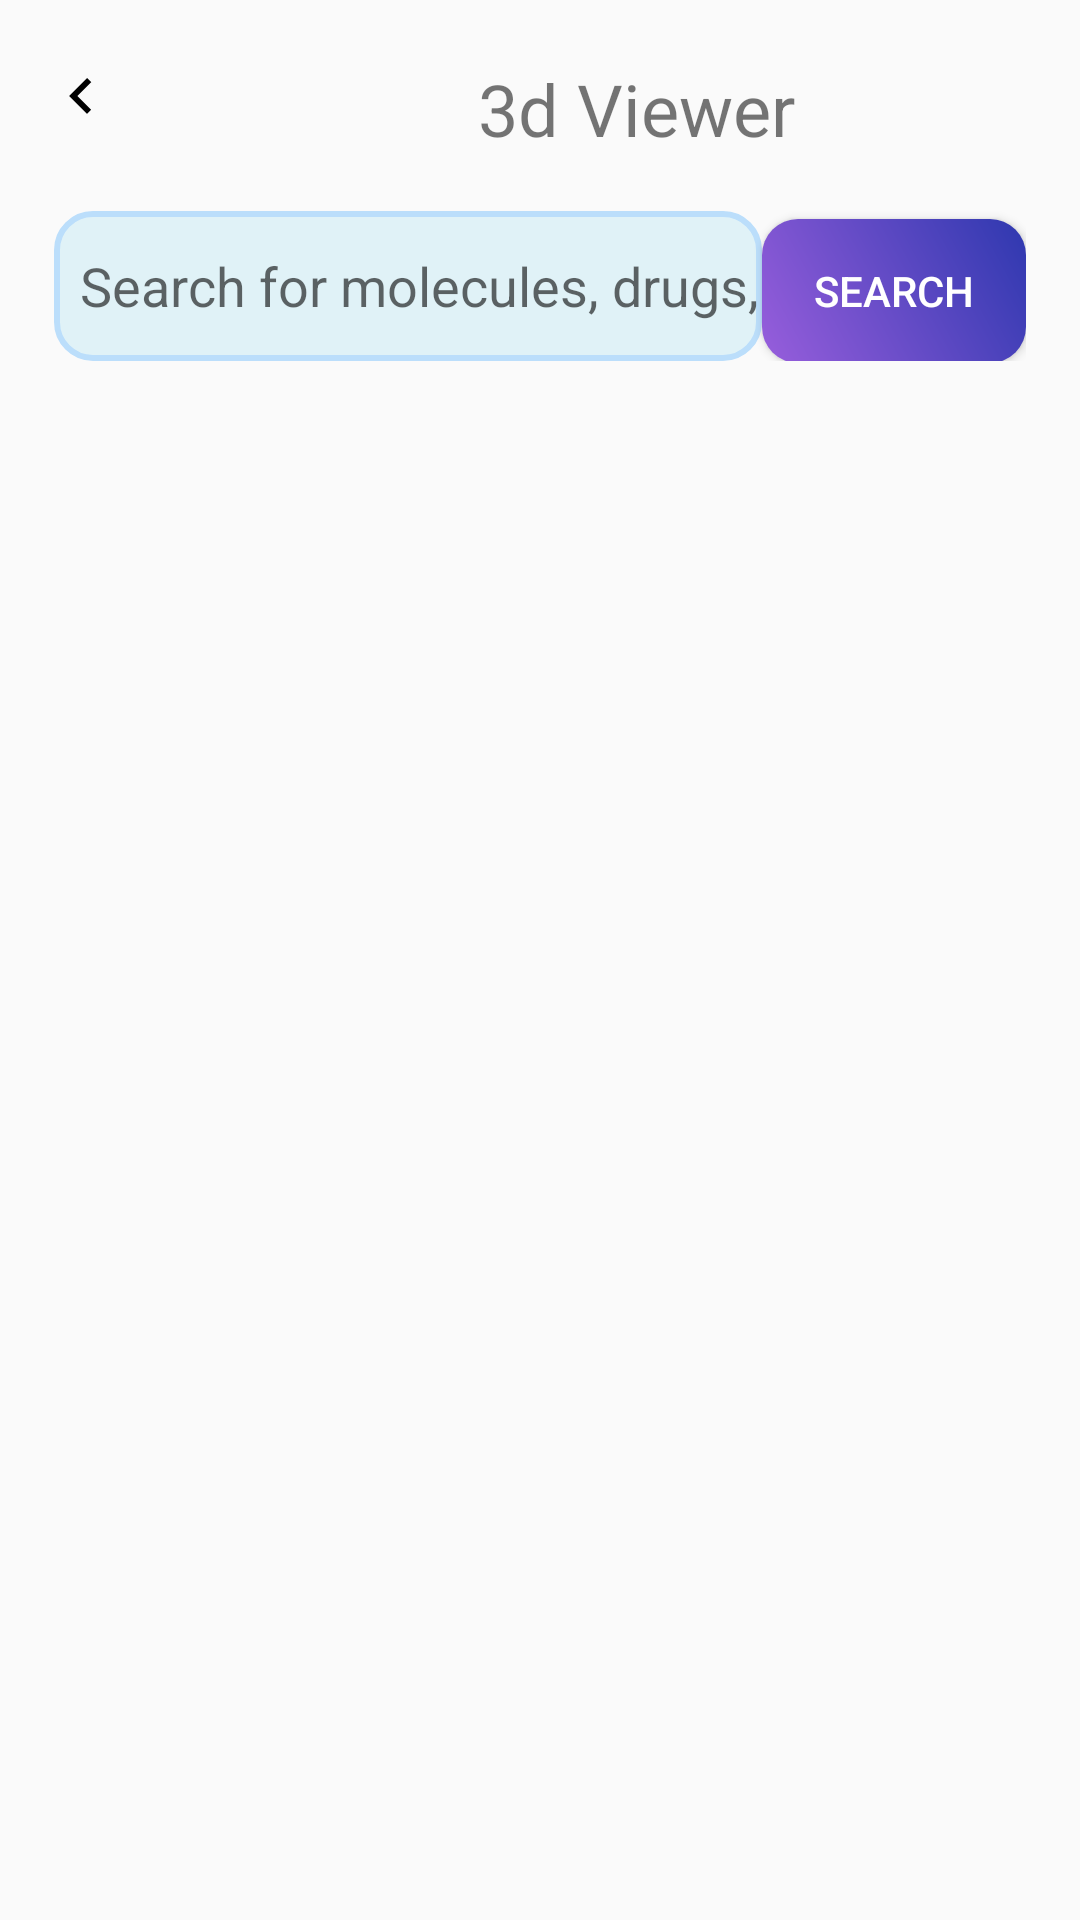

Screen size 1080w x 1920h. Icon name, then its center in pixels as [x,y]:
back: [80,96]
